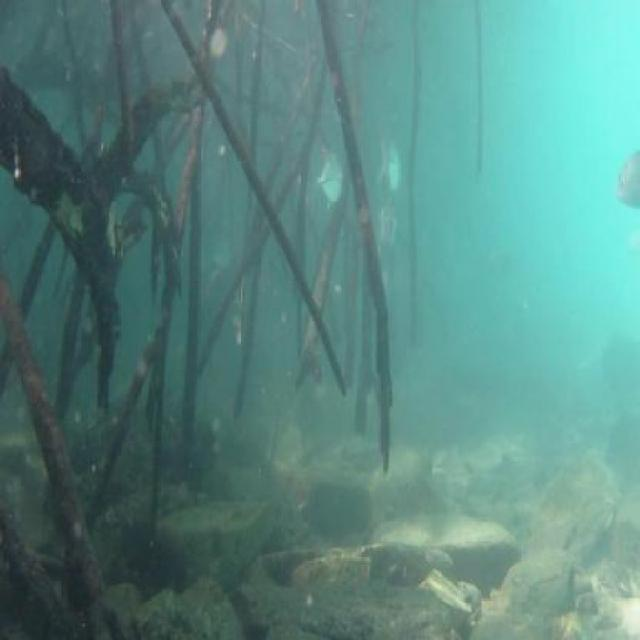Caranx_sexfasciatus_juvenile: (365, 124, 403, 188), (315, 141, 342, 210), (378, 190, 405, 258), (615, 142, 640, 208)
